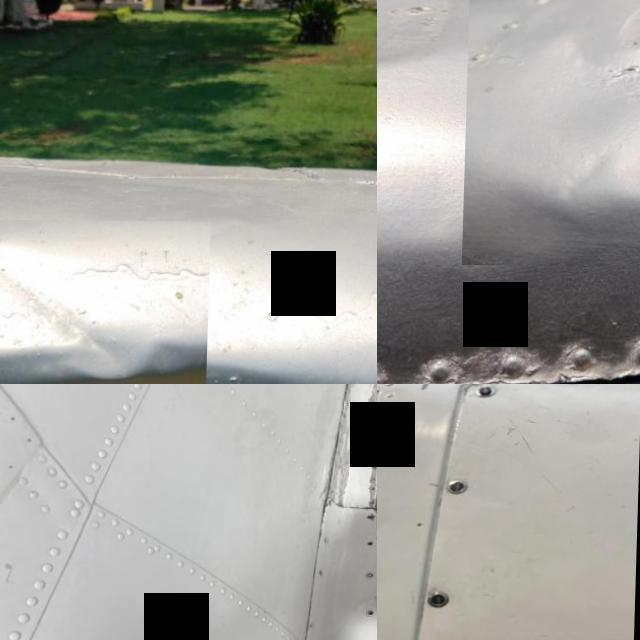Crack: (321, 454, 341, 520), (330, 384, 357, 425)
Dent: (464, 0, 640, 267), (0, 219, 212, 384)
Missing_Fastener: (368, 514, 376, 520), (369, 610, 375, 616), (369, 540, 375, 546), (320, 570, 325, 576), (312, 622, 316, 628), (373, 463, 377, 468), (372, 500, 376, 504), (372, 486, 377, 489), (375, 438, 377, 442), (375, 424, 377, 428)
